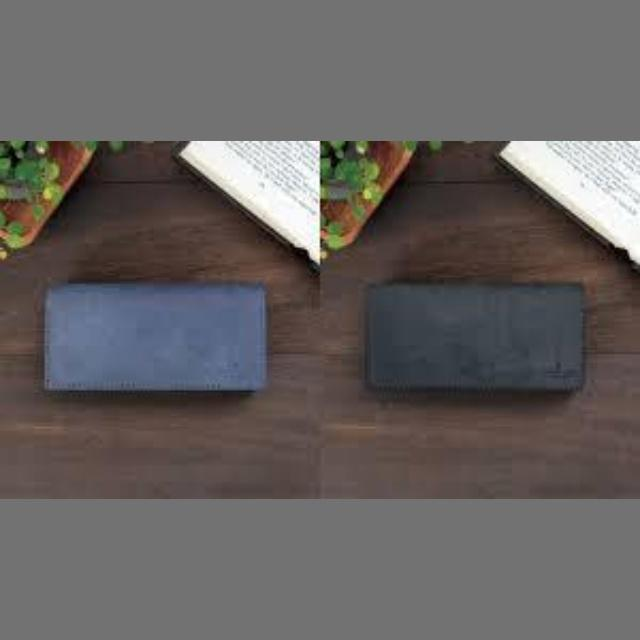Wallet: (17, 256, 291, 424), (348, 258, 604, 422)
